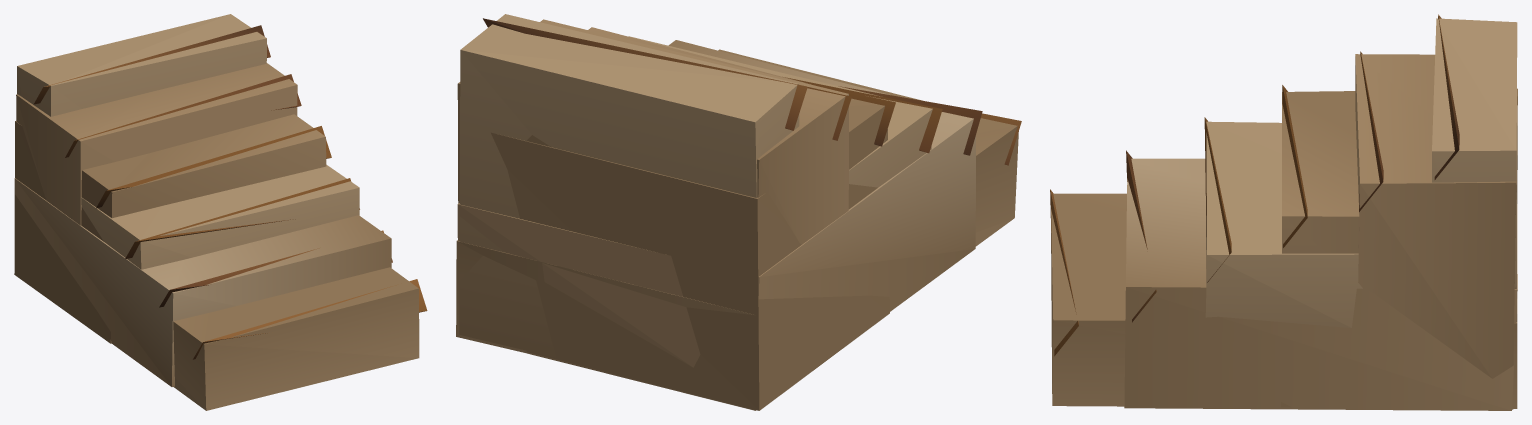
The model's file is mtn_steps-lod1.glb.
3 renders of one model, left to right at view 1: azimuth 30°, elevation 25°; view 2: azimuth 150°, elevation 25°; view 3: azimuth 270°, elevation 25°, orthographic. The views are drawn at different scales.
Visible parts, largest first — view 1: mtn_steps; view 2: mtn_steps; view 3: mtn_steps.
Part boxes in pixels (bbox=[...]): mtn_steps: bbox=[14, 14, 427, 410]; mtn_steps: bbox=[456, 14, 1021, 410]; mtn_steps: bbox=[1050, 14, 1517, 410].
Bounding box in the file's own units: 2.15 × 1.89 × 3.04.
